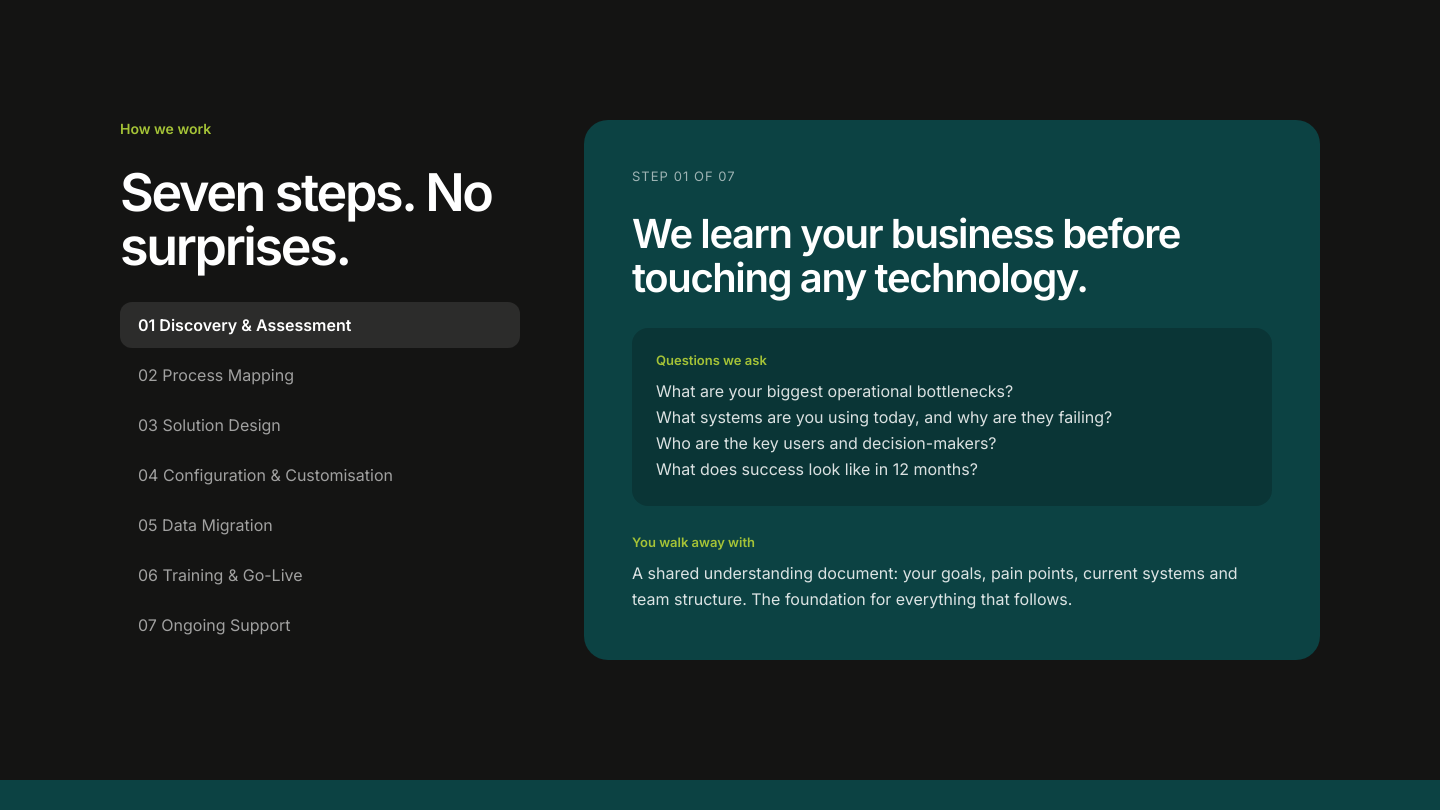
How we work › shows step 01 first and changes only when a step is clicked
Check: the text "Step 01 of 07" is shown, box [632, 168, 736, 184]
What coordinates should you click on to do the following:
click the button "03 Solution Design"
I would click on:
 (222, 425)
Its box is [120, 402, 520, 448].
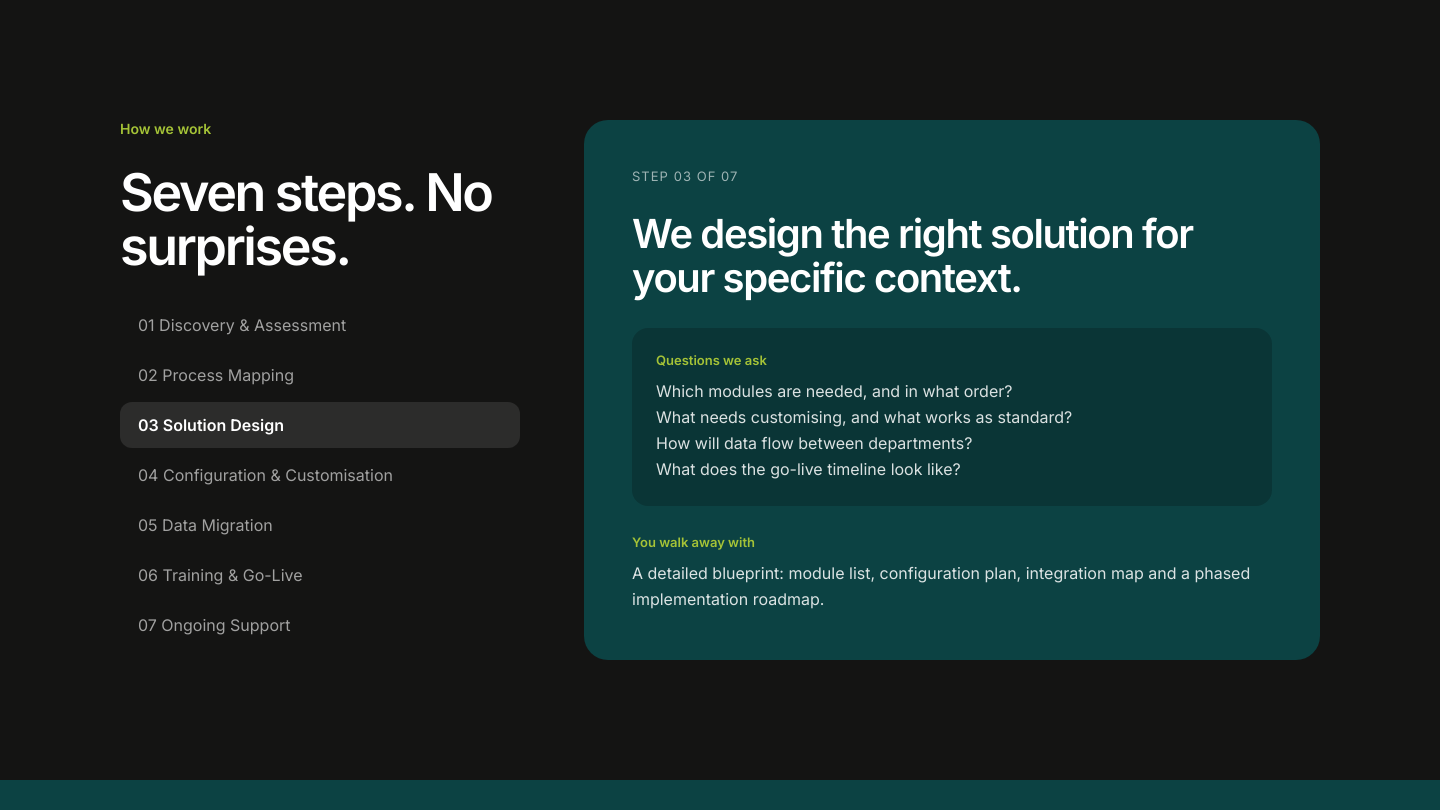
Check: the text "Step 03 of 07" is shown, box [632, 168, 738, 184]
Check: the heading "We design the right solution for your specific context." is shown, box [632, 212, 1272, 300]
